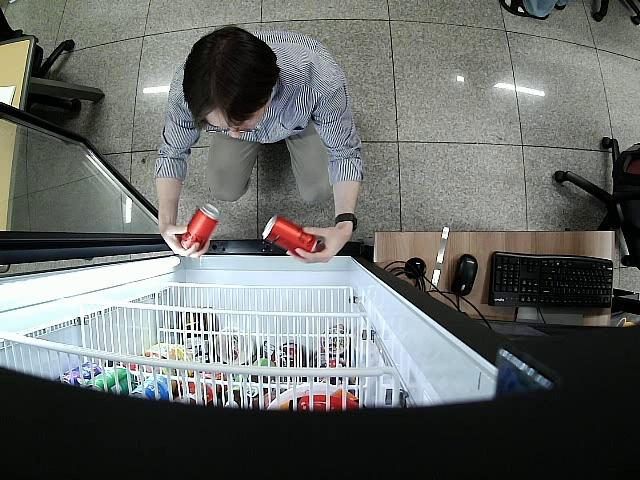00_hand: (285, 224, 349, 264), (159, 222, 212, 260)
11_cocaColaZero: (258, 216, 318, 252), (183, 205, 222, 256)
